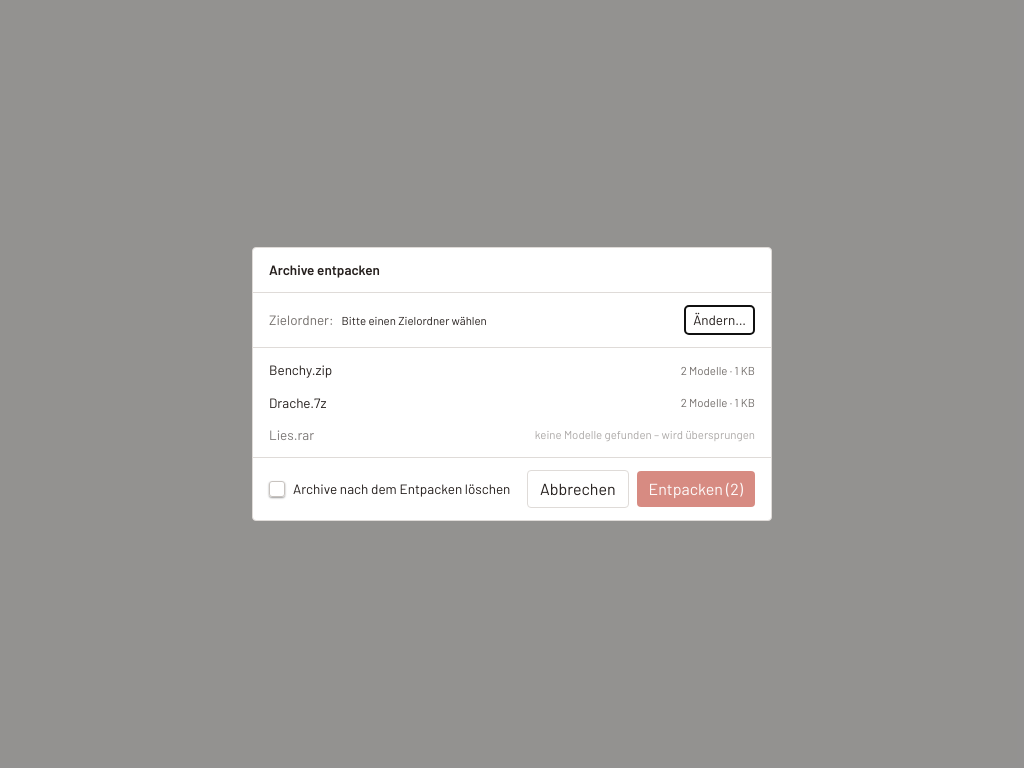
Test: ArchiveImportDialog › disables extraction until a target folder is chosen
This screenshot has width=1024, height=768.
Check: the button "Entpacken (2)" is disabled, box [636,471,755,507]
Click the button "Ändern…" at (720, 320), box [684,305,755,335]
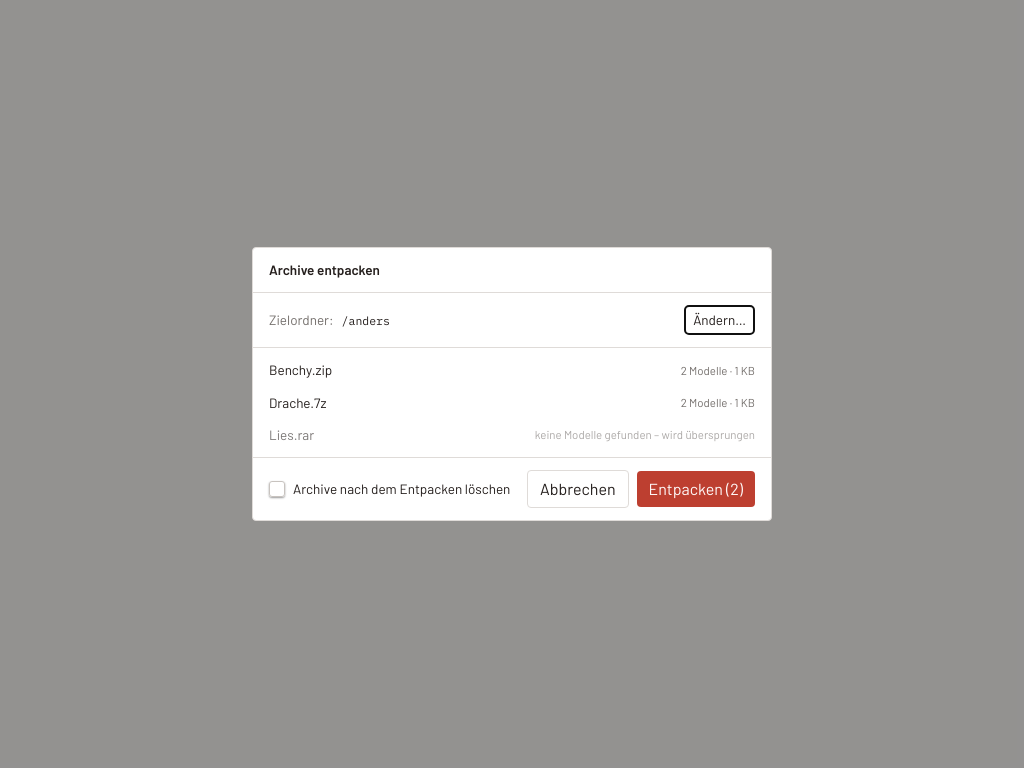
Check: the text "/anders" is shown, box [342,313,390,328]
Check: the button "Entpacken (2)" is enabled, box [636,471,755,507]
